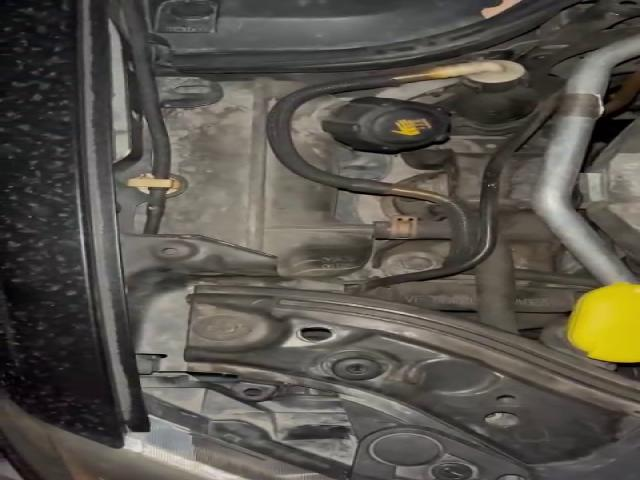antifreeze_tank: (161, 79, 380, 280), (292, 96, 450, 171)
